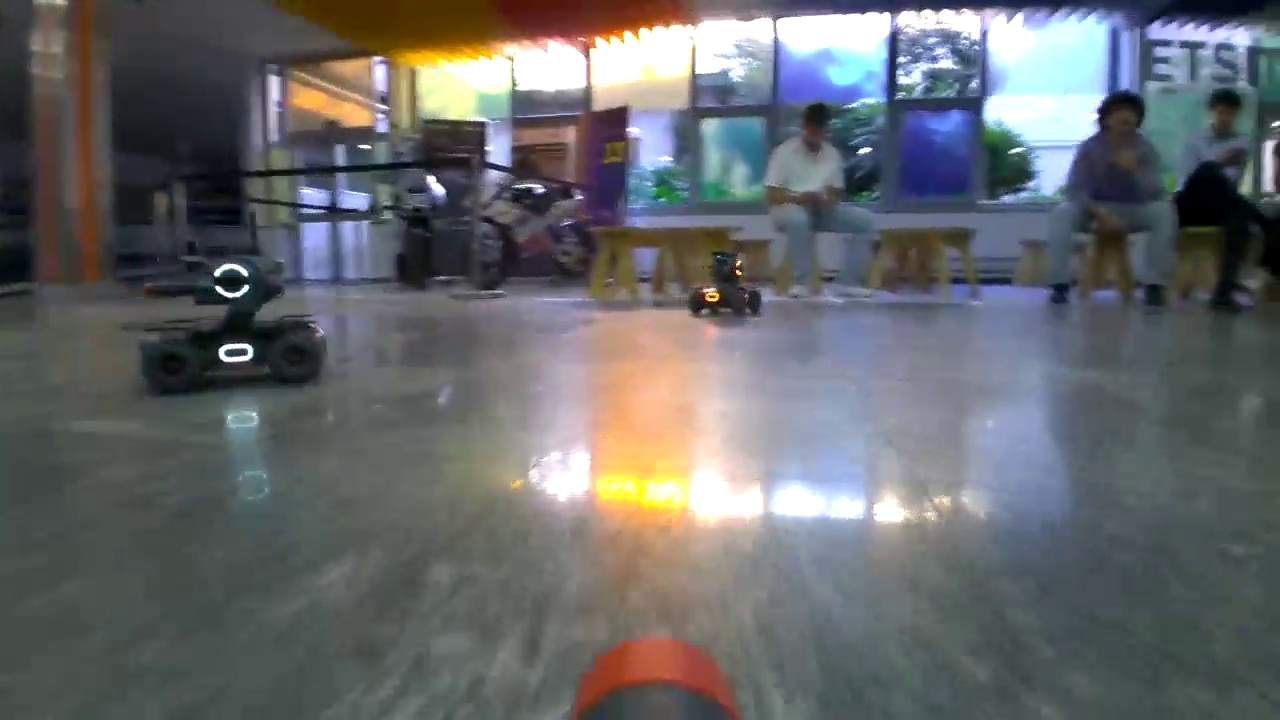robot: (135, 262, 328, 395), (688, 250, 762, 320)
